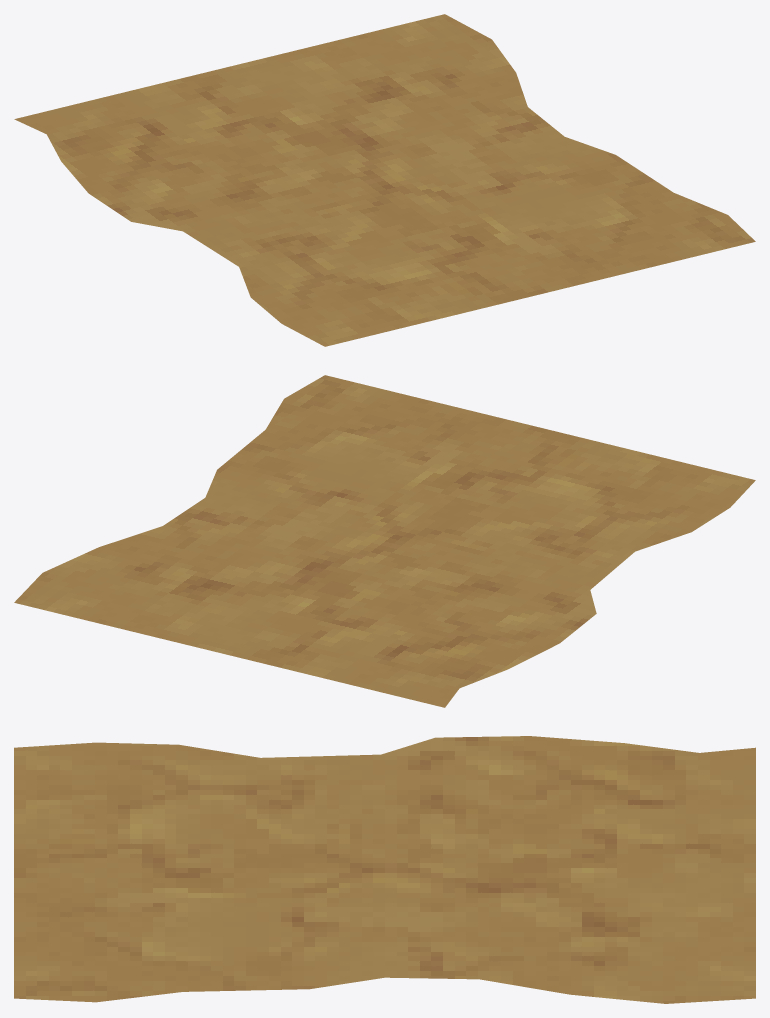
File: Dirt Straight.fbx
3 renders of one model, top to bottom at view 1: azimuth 30°, elevation 25°; view 2: azimuth 150°, elevation 25°; view 3: azimuth 270°, elevation 25°, orthographic. The views are drawn at different scales.
Parts seen in each view (by area): view 1: Dirt_Straight; view 2: Dirt_Straight; view 3: Dirt_Straight.
Part boxes in pixels (<box>): Dirt_Straight: <box>14,14,755,346</box>; Dirt_Straight: <box>14,375,755,707</box>; Dirt_Straight: <box>14,736,755,1003</box>.
Size of the model in its own units: 0.8546 by 0 by 1.
